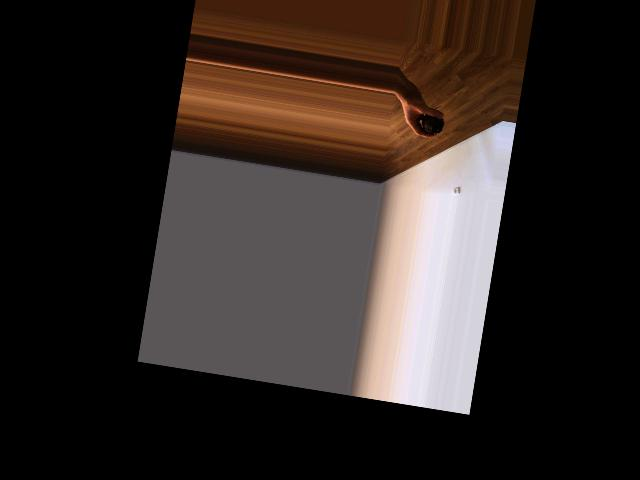beet: (420, 104, 447, 136)
